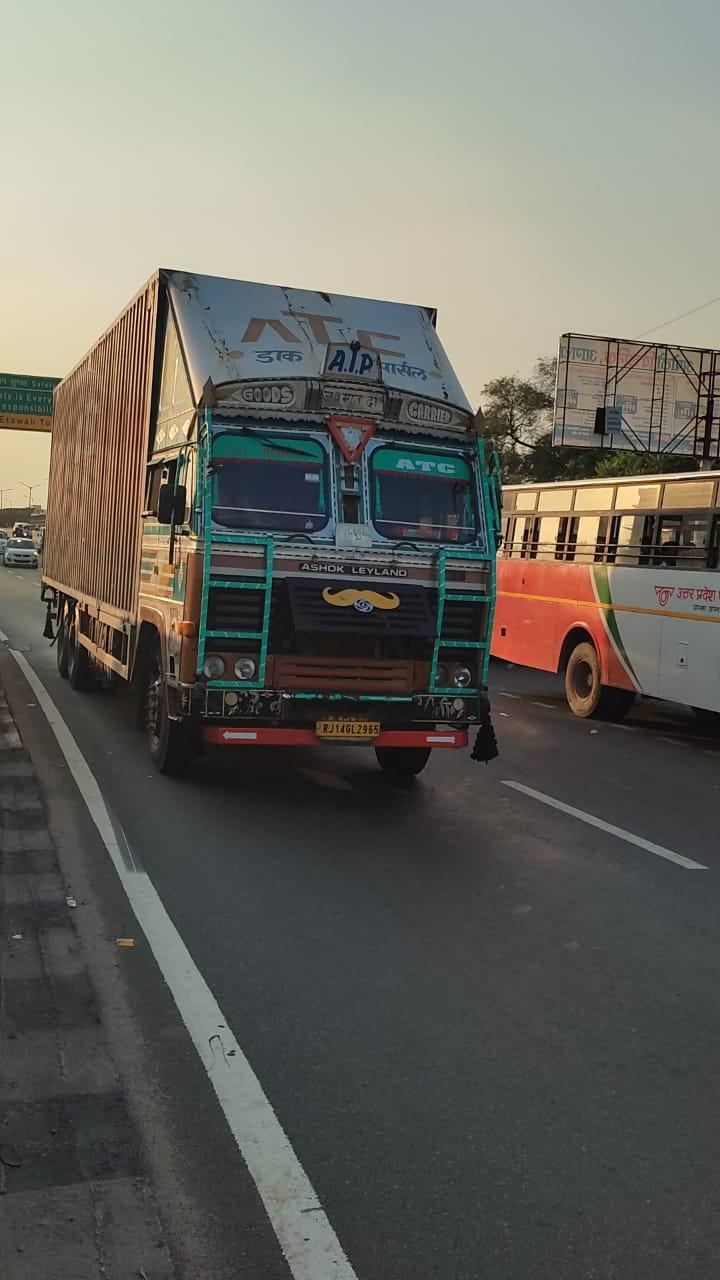truck: (32, 240, 564, 816)
